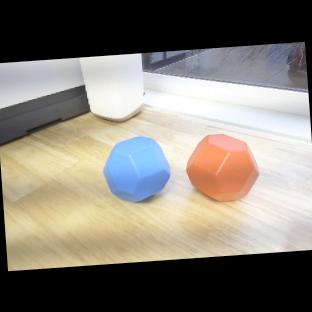V5_BLUE: (101, 133, 173, 204)
V5_RED: (183, 130, 261, 204)
